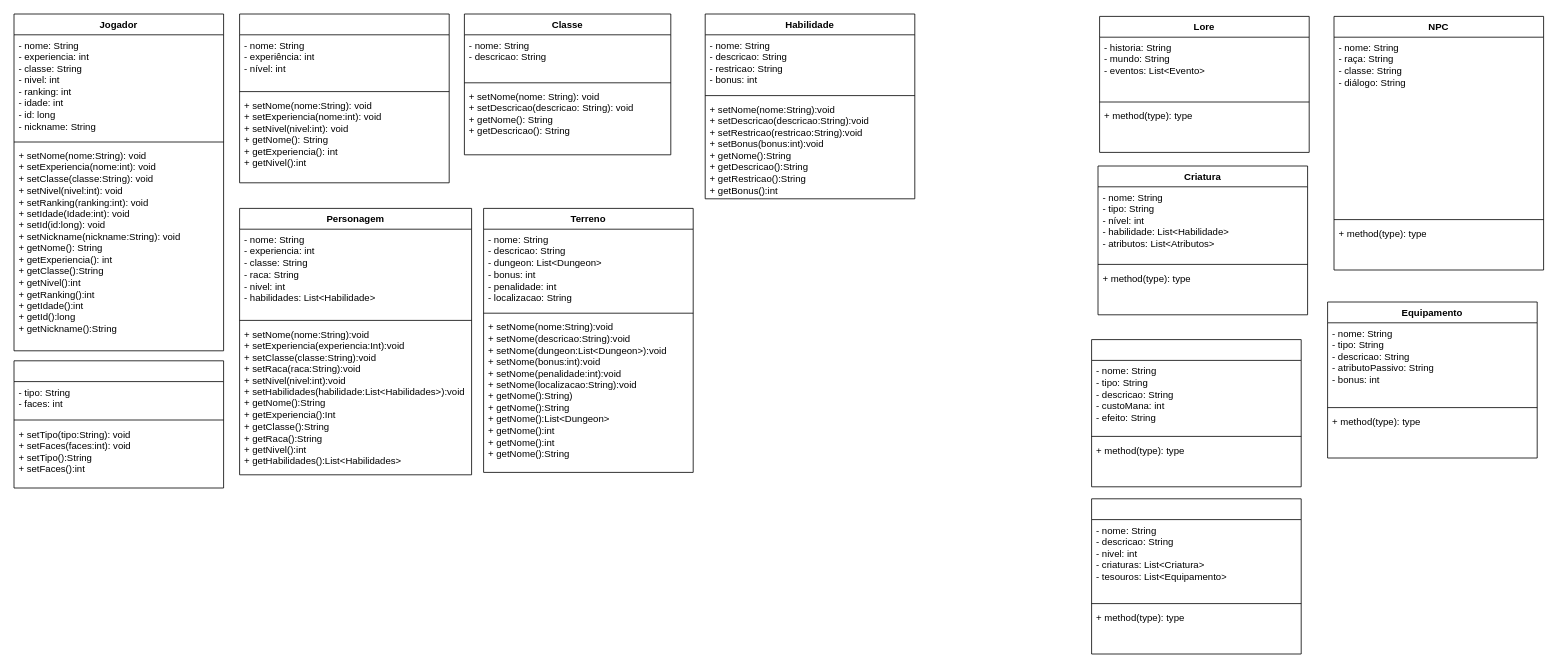
This 1558x670 diagram has some shape labels left out. The box of each missing label's shape, as (x1, y1, x2, y2) in pixels:
Dado: (13, 360, 224, 488)
Dungeon: (1091, 498, 1301, 654)
Magia: (1091, 339, 1301, 487)
Mestre: (239, 13, 449, 183)
